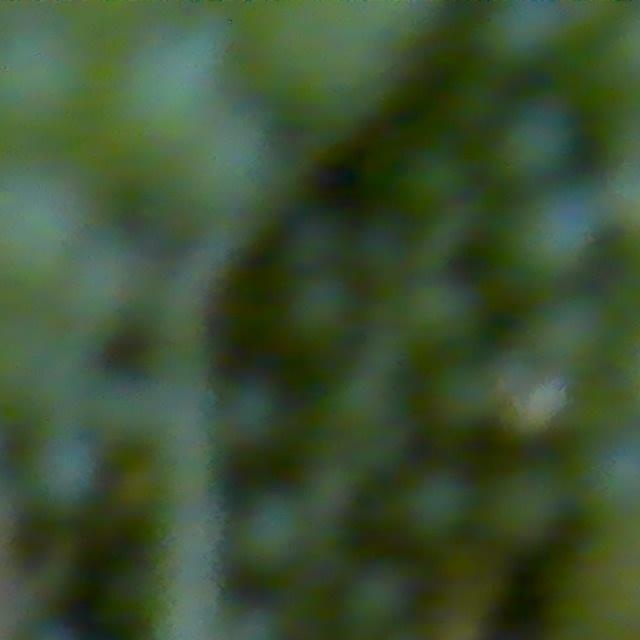SeaGrape: (151, 143, 263, 255), (0, 14, 93, 140), (0, 172, 86, 301), (509, 185, 599, 282), (485, 463, 567, 548), (530, 290, 613, 373), (496, 97, 575, 182), (479, 0, 573, 70), (402, 274, 482, 351), (128, 49, 203, 131), (27, 432, 100, 509), (237, 495, 311, 570), (401, 466, 474, 540), (341, 560, 414, 634), (284, 271, 356, 346), (429, 361, 503, 430), (582, 429, 640, 515)
